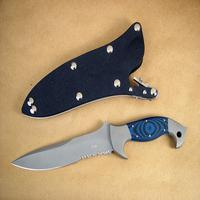knife: (7, 115, 187, 175)
